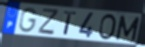4: (77, 12, 95, 40)
G: (18, 7, 39, 34)
M: (114, 15, 141, 43)
O: (97, 13, 117, 41)
T: (63, 10, 78, 37)
Z: (37, 8, 60, 37)
